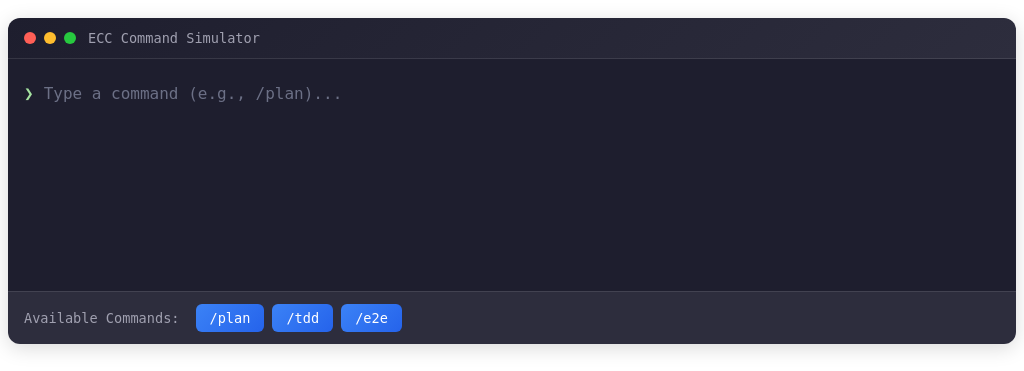
Test: CommandSimulator Component › 🔴 RED: Interactive Features › should show autocomplete suggestions when typing
Type "/p" into the field at [521, 94], box left=42, top=83, right=1000, bottom=104
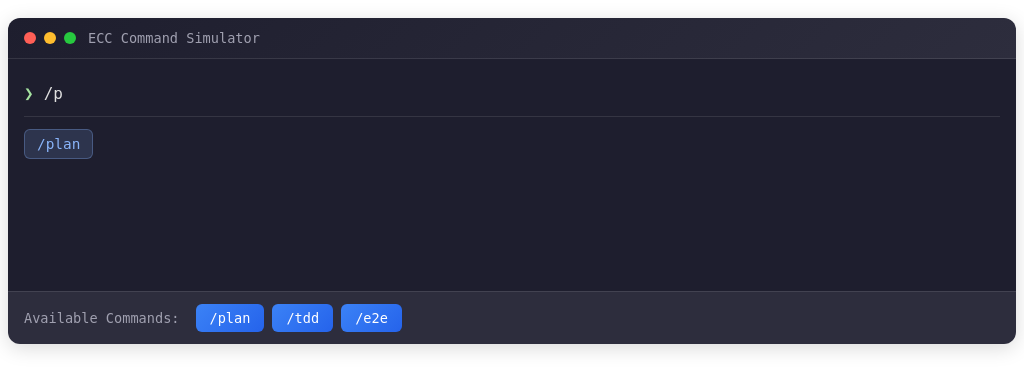
Check: the button "/plan" is shown, box left=24, top=129, right=93, bottom=159
